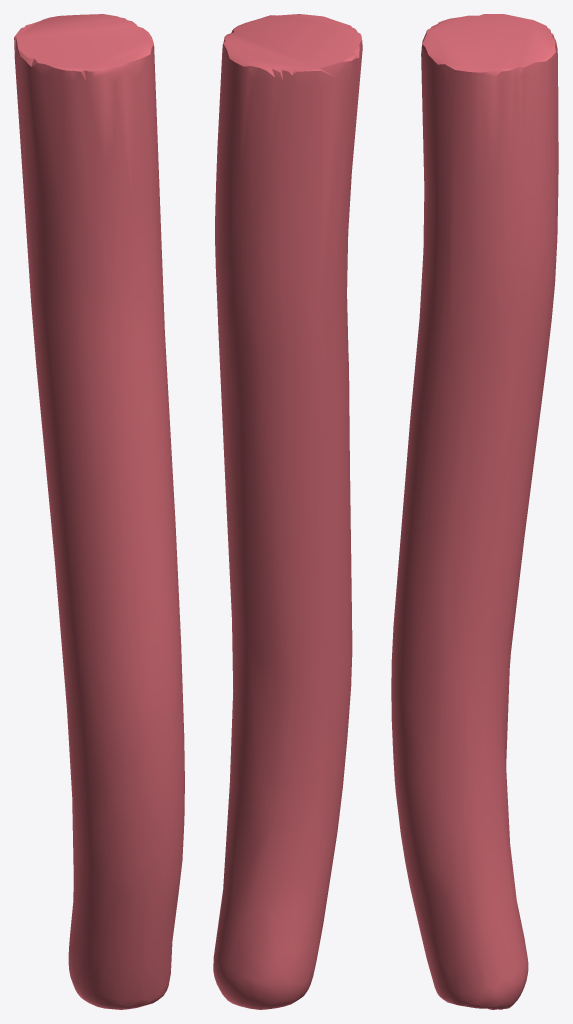
The model's file is fma10951_fj3659.glb.
The picture shows the model from 3 angles, left to right: view 1: azimuth 30°, elevation 25°; view 2: azimuth 150°, elevation 25°; view 3: azimuth 270°, elevation 25°; orthographic projection. The views are drawn at different scales.
Parts seen in each view (by area): view 1: FMA10951_FJ3659; view 2: FMA10951_FJ3659; view 3: FMA10951_FJ3659.
Part boxes in pixels (bbox=[...]): FMA10951_FJ3659: bbox=[14, 14, 184, 1009]; FMA10951_FJ3659: bbox=[213, 14, 362, 1009]; FMA10951_FJ3659: bbox=[391, 14, 558, 1009].
Size of the model in its own units: 0.0217 by 0.1441 by 0.0232.
